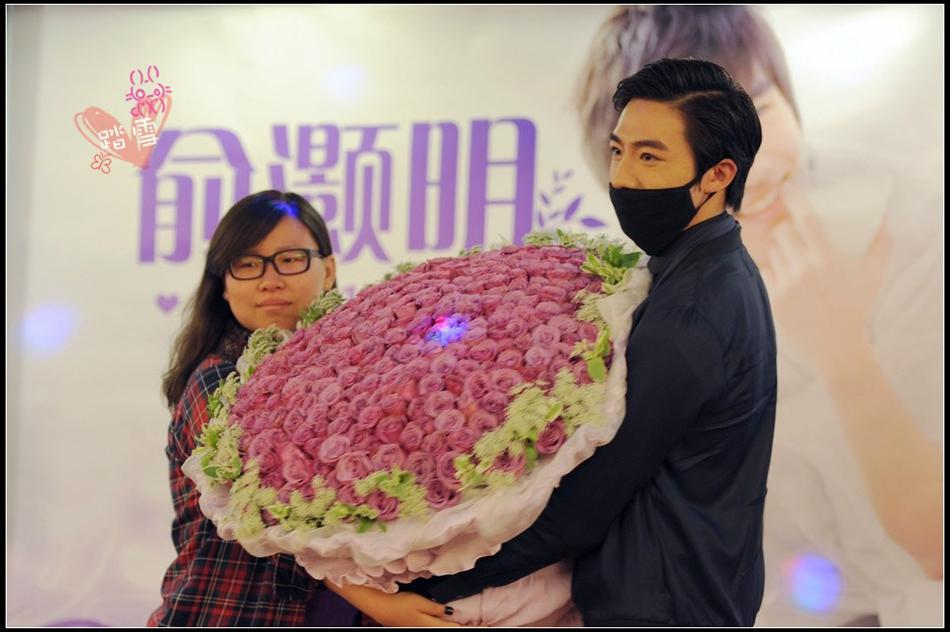NONE: (230, 240, 324, 330)
WRONG: (607, 129, 719, 251)
